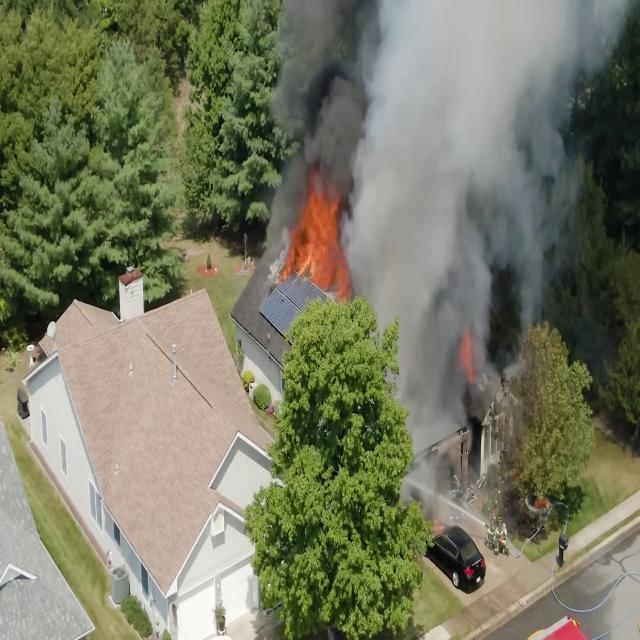Fire: (286, 189, 347, 298)
Smoke: (353, 15, 470, 276), (293, 18, 351, 176)
